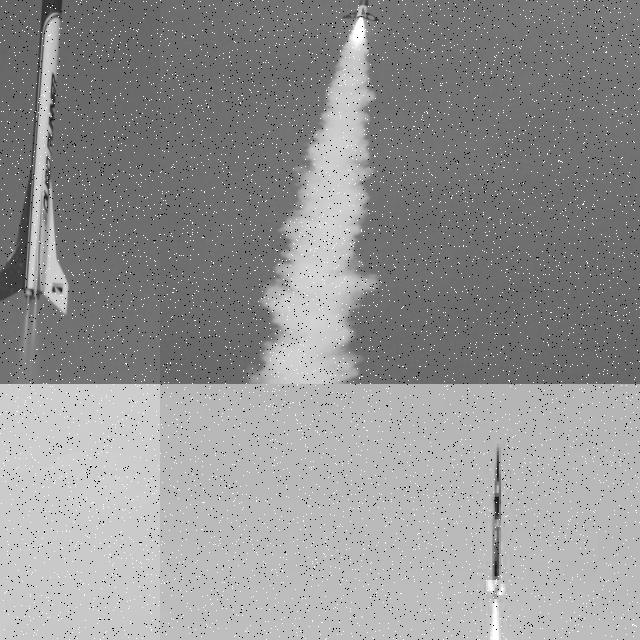Rocket: (0, 0, 69, 315), (487, 443, 508, 607), (341, 0, 379, 23)
